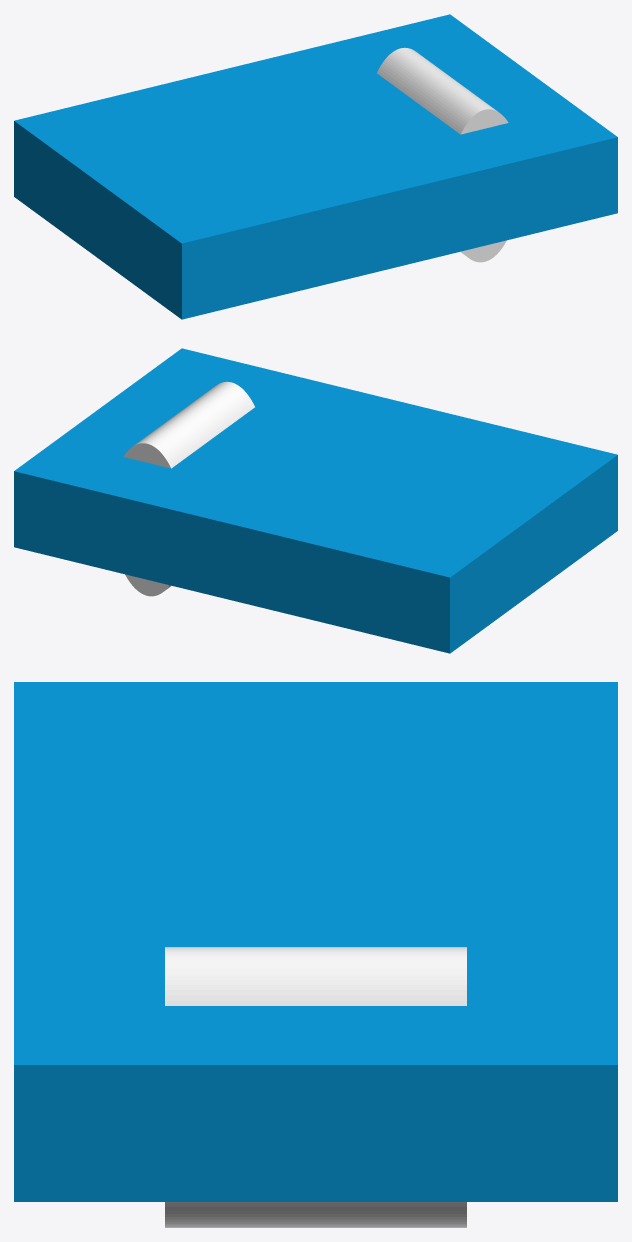
The model's file is putLumber.obj.
The picture shows the model from 3 angles, top to bottom: view 1: azimuth 30°, elevation 25°; view 2: azimuth 150°, elevation 25°; view 3: azimuth 270°, elevation 25°; orthographic projection. The views are drawn at different scales.
Visible parts, largest first — view 1: Object.4, Object.5; view 2: Object.4, Object.5; view 3: Object.4, Object.5.
Boxes of the visible parts, x1,y1,x2,y2 form: Object.4: [14, 14, 617, 319]; Object.5: [377, 47, 508, 262]; Object.4: [14, 348, 617, 653]; Object.5: [123, 381, 254, 596]; Object.4: [14, 682, 617, 1201]; Object.5: [165, 947, 466, 1227].
Size of the model in its own units: 0.06 by 0.02 by 0.04.
